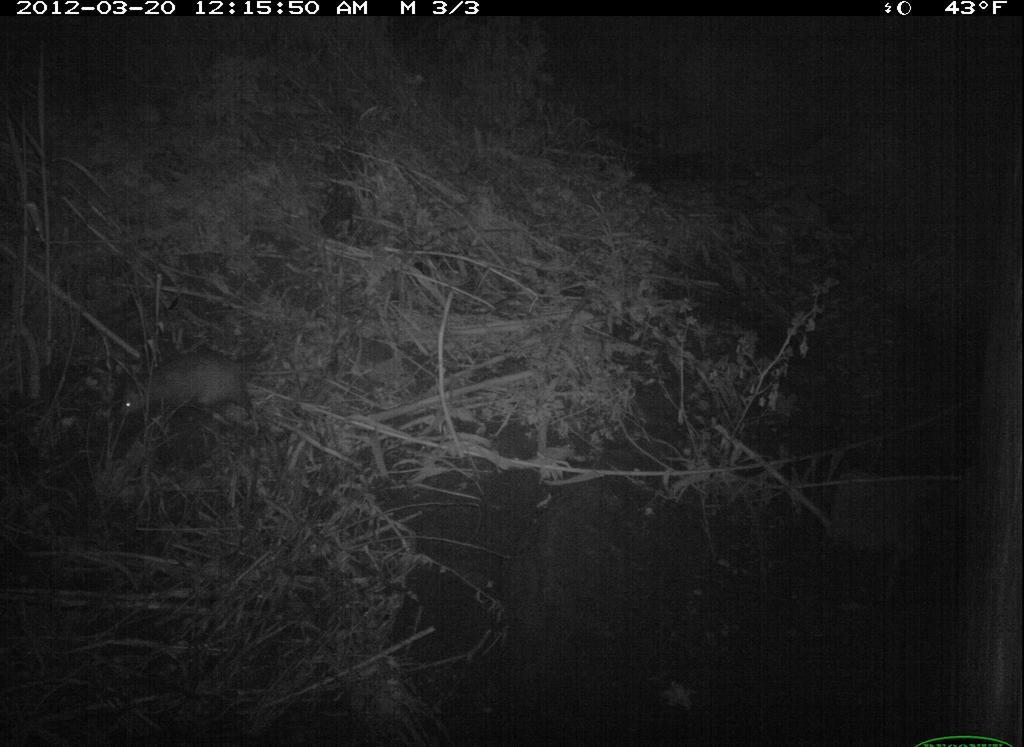opossum: (107, 347, 326, 447)
